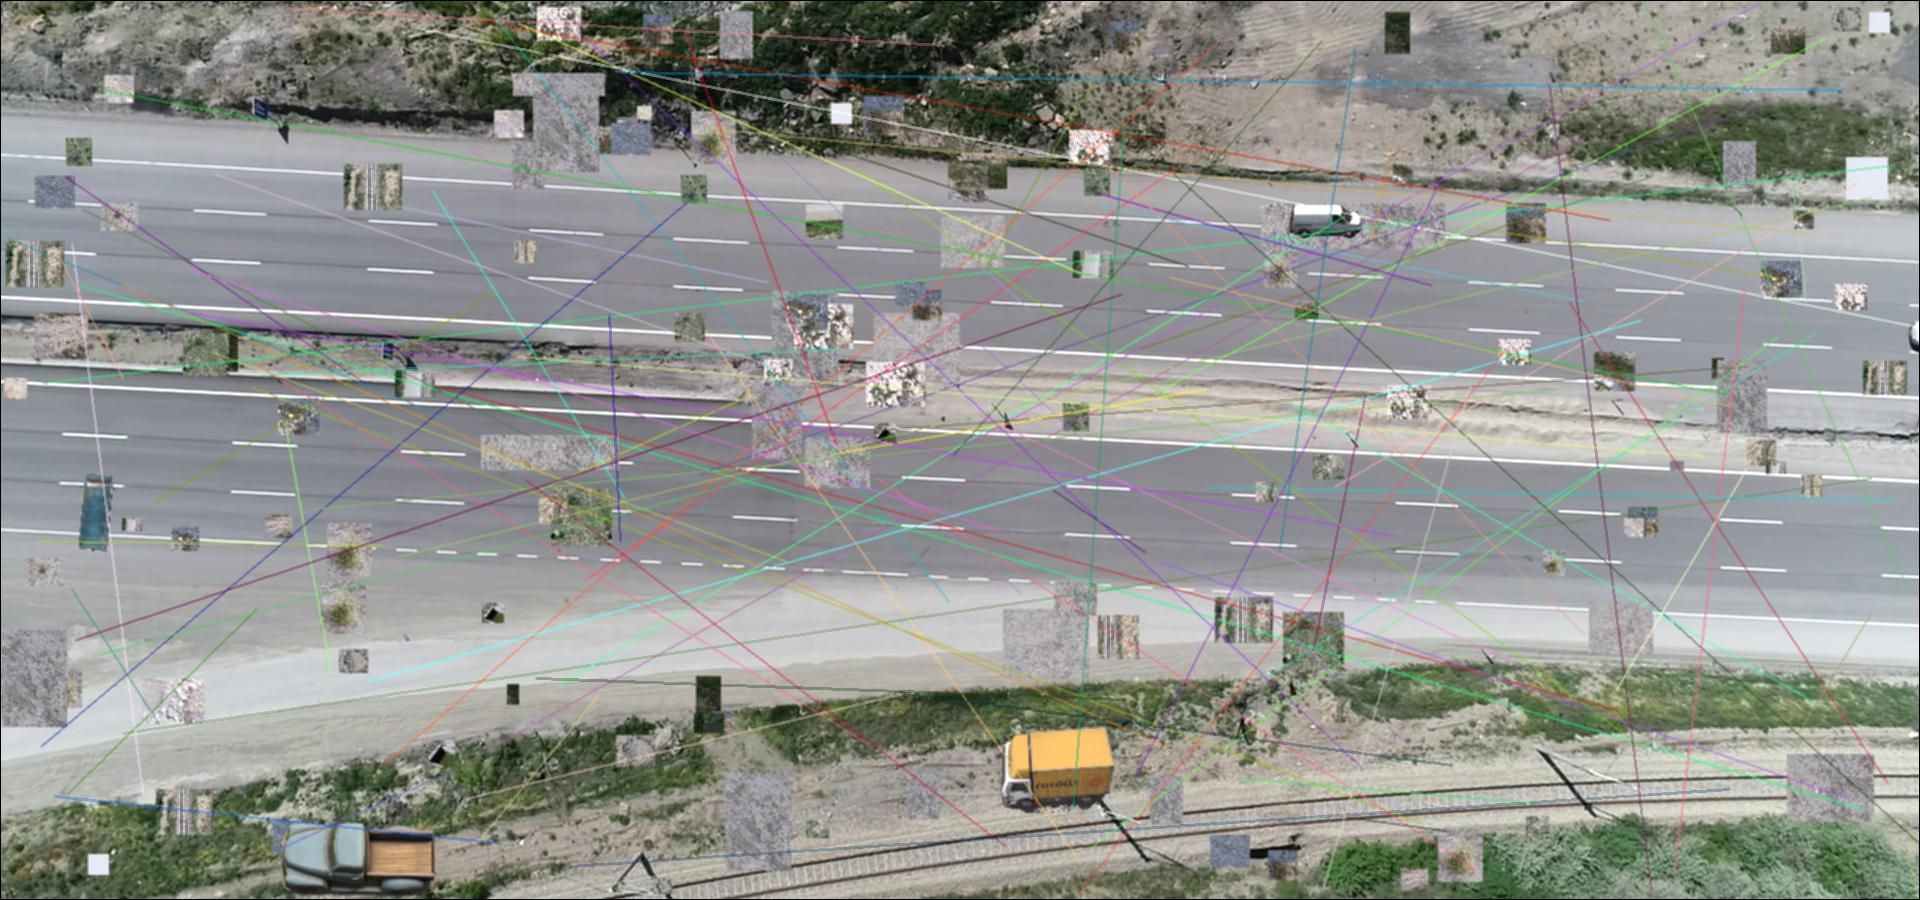arac: (280, 817, 437, 896), (998, 727, 1114, 813), (77, 473, 115, 552), (1284, 204, 1365, 239)
